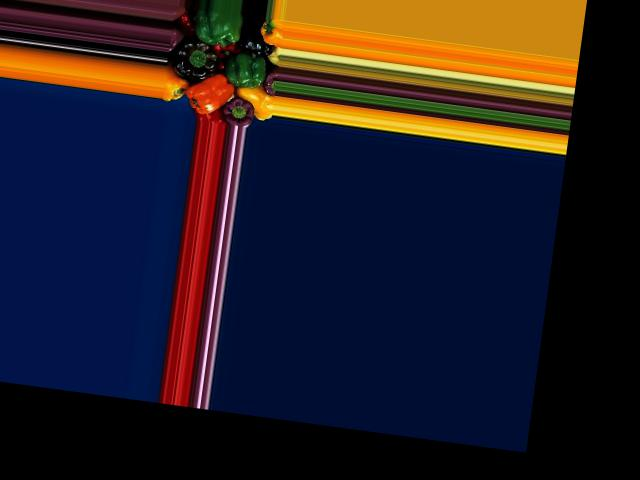bell_pepper: (190, 7, 242, 44)
